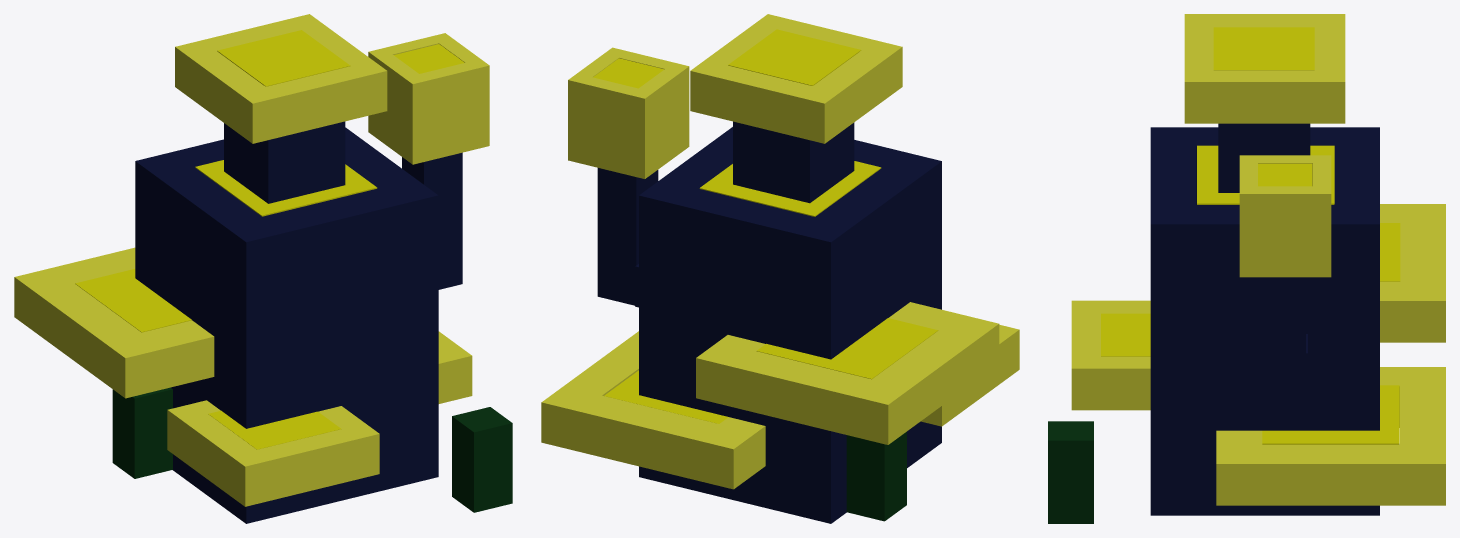
The model's file is health_coral2.fbx.
The picture shows the model from 3 angles, left to right: view 1: azimuth 30°, elevation 25°; view 2: azimuth 150°, elevation 25°; view 3: azimuth 270°, elevation 25°; orthographic projection. The views are drawn at different scales.
Parts seen in each view (by area): view 1: Hleath Yellow (9), Hleath Yellow (4), Hleath Yellow (11), Hleath Yellow (15), Hleath Yellow (5), Hleath Yellow (7), Hleath Yellow (16), Hleath Yellow (13), Health Yellow (2), Hleath Yellow (6), Hleath Yellow, Hleath Yellow (2) (+3 smaller); view 2: Hleath Yellow (9), Hleath Yellow (4), Hleath Yellow (14), Hleath Yellow (11), Hleath Yellow (5), Hleath Yellow (7), Hleath Yellow (6), Hleath Yellow (13), Health Yellow (2), Hleath Yellow, Hleath Yellow (2), Hleath Yellow (15) (+2 smaller); view 3: Hleath Yellow (9), Hleath Yellow (14), Hleath Yellow (11), Hleath Yellow (5), Hleath Yellow (4), Hleath Yellow (15), Hleath Yellow (6), Hleath Yellow (16), Health Yellow (2), Hleath Yellow (7), Hleath Yellow (8), Hleath Yellow (3) (+3 smaller).
Part boxes in pixels (x1=…): Hleath Yellow (9): x1=135, y1=127, x2=438, y2=523; Hleath Yellow (4): x1=14, y1=247, x2=214, y2=398; Hleath Yellow (11): x1=175, y1=14, x2=387, y2=143; Hleath Yellow (15): x1=167, y1=400, x2=379, y2=506; Hleath Yellow (5): x1=368, y1=33, x2=489, y2=164; Hleath Yellow (7): x1=224, y1=121, x2=345, y2=203; Hleath Yellow (16): x1=452, y1=407, x2=512, y2=512; Hleath Yellow (13): x1=112, y1=387, x2=172, y2=478; Health Yellow (2): x1=217, y1=30, x2=350, y2=86; Hleath Yellow (6): x1=402, y1=152, x2=462, y2=289; Hleath Yellow: x1=75, y1=269, x2=191, y2=332; Hleath Yellow (2): x1=195, y1=160, x2=377, y2=216; Hleath Yellow (9): x1=639, y1=127, x2=941, y2=523; Hleath Yellow (4): x1=696, y1=302, x2=999, y2=444; Hleath Yellow (14): x1=541, y1=331, x2=765, y2=489; Hleath Yellow (11): x1=690, y1=14, x2=902, y2=143; Hleath Yellow (5): x1=568, y1=47, x2=689, y2=178; Hleath Yellow (7): x1=733, y1=121, x2=854, y2=203; Hleath Yellow (6): x1=597, y1=168, x2=658, y2=305; Hleath Yellow (13): x1=846, y1=431, x2=906, y2=521; Health Yellow (2): x1=728, y1=29, x2=861, y2=85; Hleath Yellow: x1=756, y1=318, x2=938, y2=379; Hleath Yellow (2): x1=699, y1=161, x2=881, y2=216; Hleath Yellow (15): x1=921, y1=324, x2=1019, y2=426; Hleath Yellow (9): x1=1150, y1=127, x2=1379, y2=515; Hleath Yellow (14): x1=1216, y1=367, x2=1445, y2=505; Hleath Yellow (11): x1=1184, y1=14, x2=1345, y2=123; Hleath Yellow (5): x1=1239, y1=155, x2=1331, y2=277; Hleath Yellow (4): x1=1380, y1=204, x2=1445, y2=342; Hleath Yellow (15): x1=1071, y1=300, x2=1150, y2=410; Hleath Yellow (6): x1=1260, y1=277, x2=1305, y2=414; Hleath Yellow (16): x1=1048, y1=421, x2=1093, y2=523; Health Yellow (2): x1=1213, y1=27, x2=1314, y2=70; Hleath Yellow (7): x1=1218, y1=123, x2=1310, y2=192; Hleath Yellow (8): x1=1262, y1=385, x2=1399, y2=444; Hleath Yellow (3): x1=1101, y1=313, x2=1150, y2=356.
Bounding box in the file's own units: 97.66 × 100 × 86.64.
